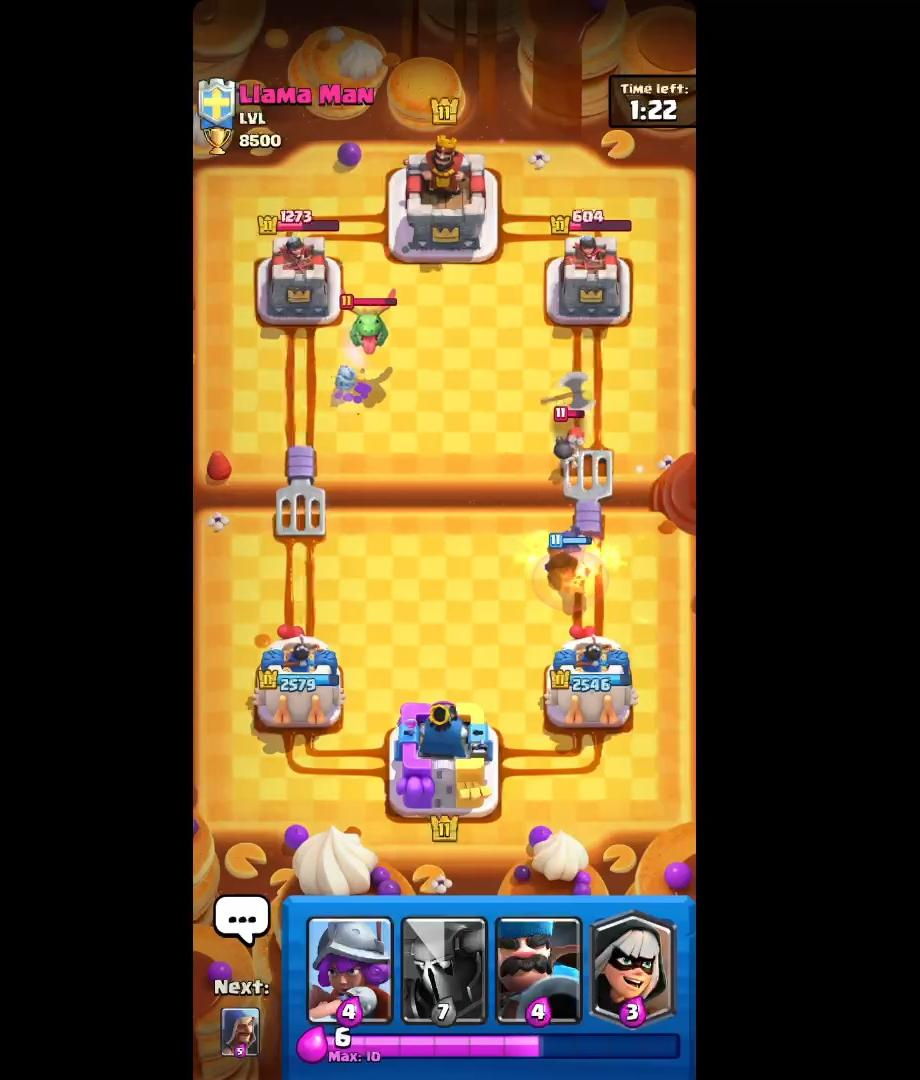Baby Dragon: (337, 290, 399, 358)
Bomber: (550, 404, 591, 468)
